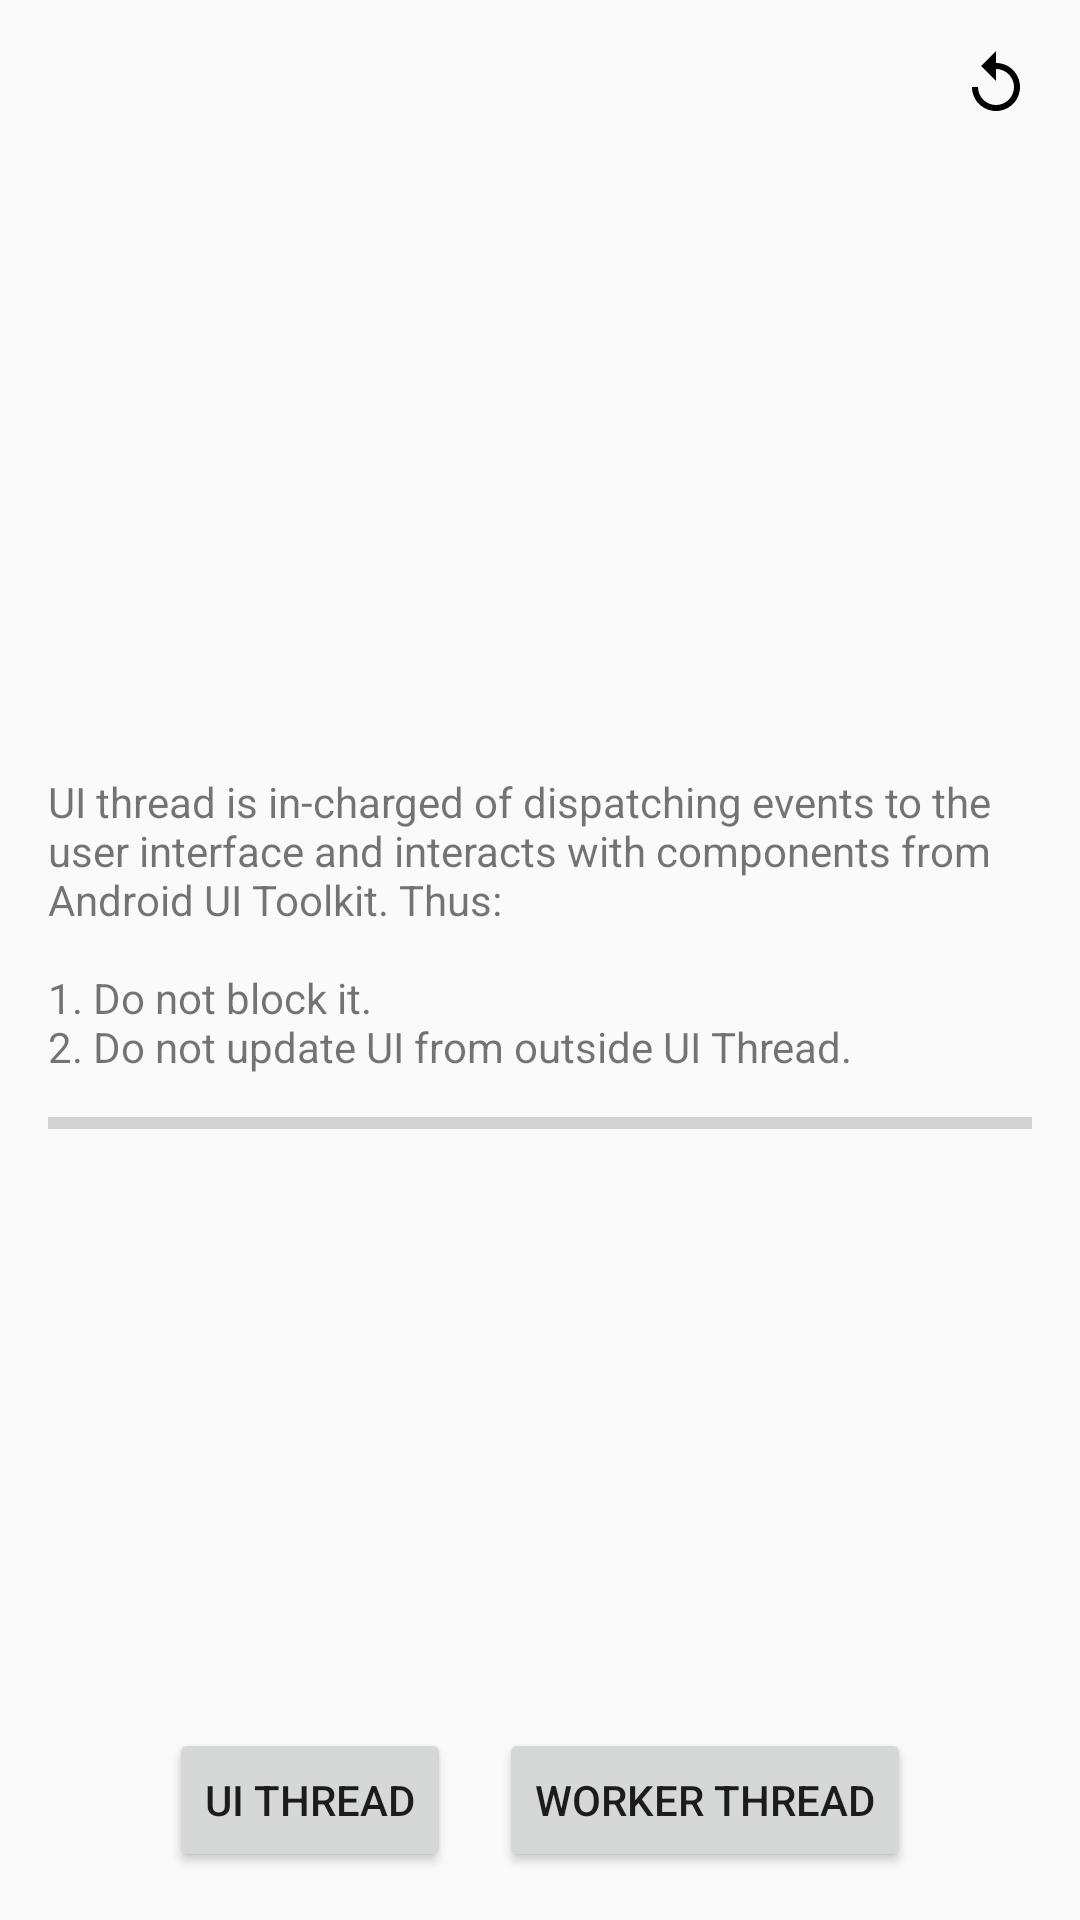

Point at icon controls on the screen. Image size 1080*1920, points as point (x, y).
reset: point (996, 81)
